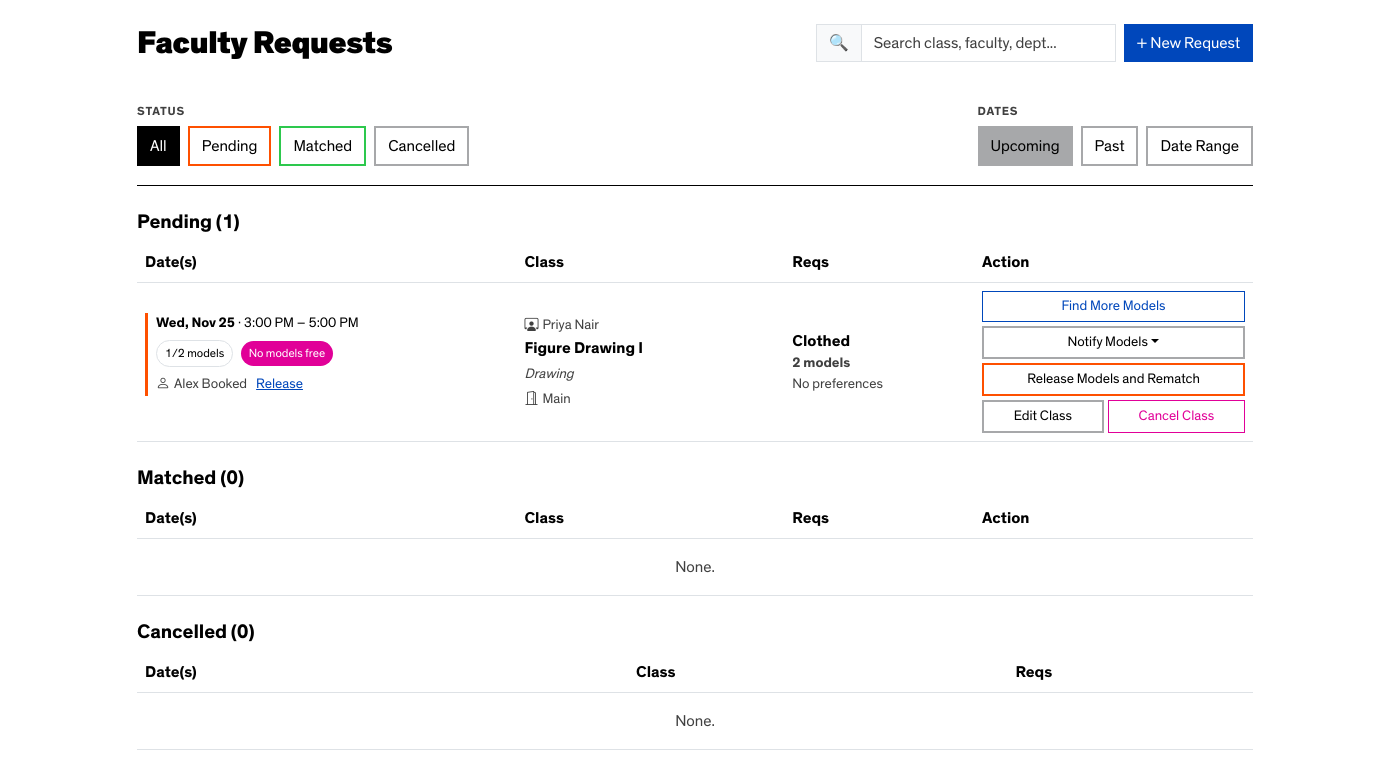
Scenario: AllRequests (admin requests page) › sends the admin to the matching screen to find more models
The image size is (1378, 768).
Step 1. Click the button "Find More Models" → (1114, 307), box x1=982 y1=291 x2=1245 y2=322
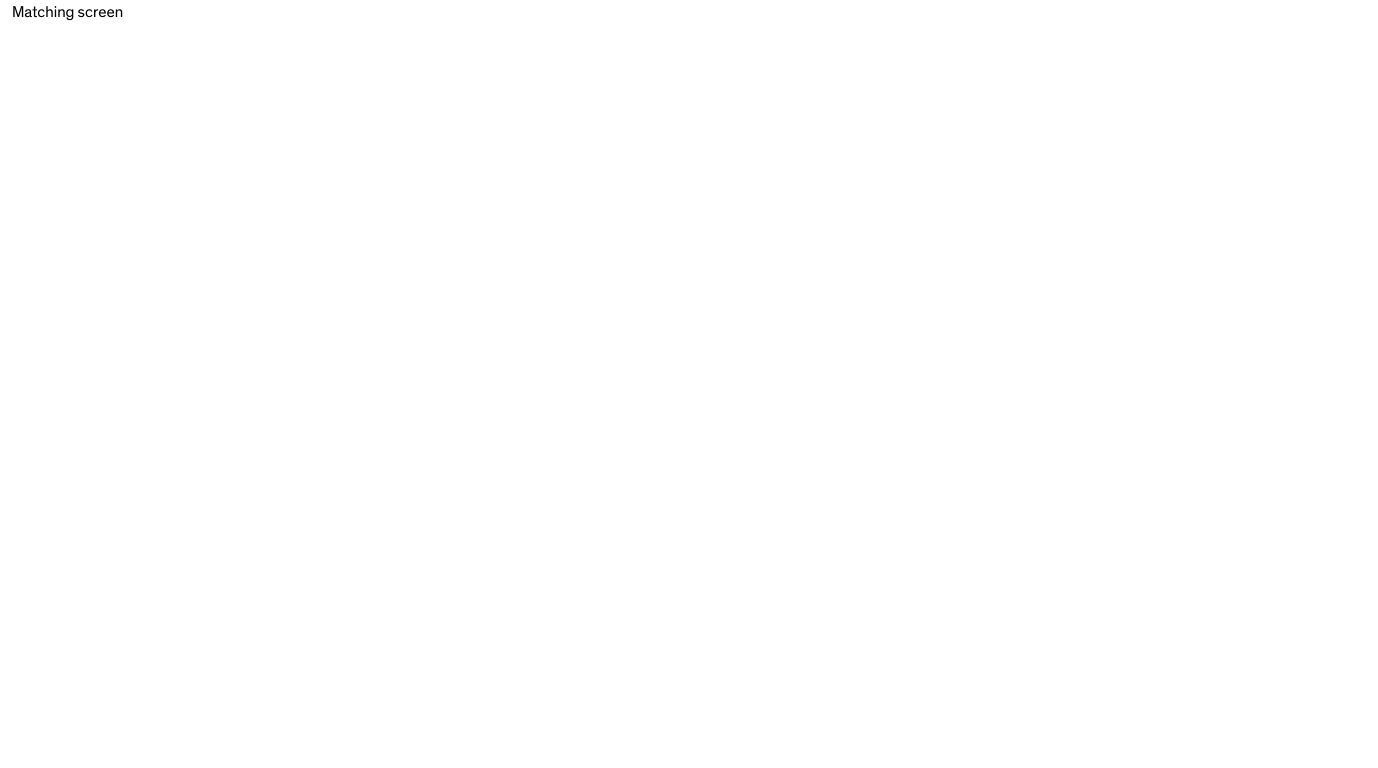
Now the text "Matching screen" is shown, box x1=12 y1=4 x2=123 y2=20
